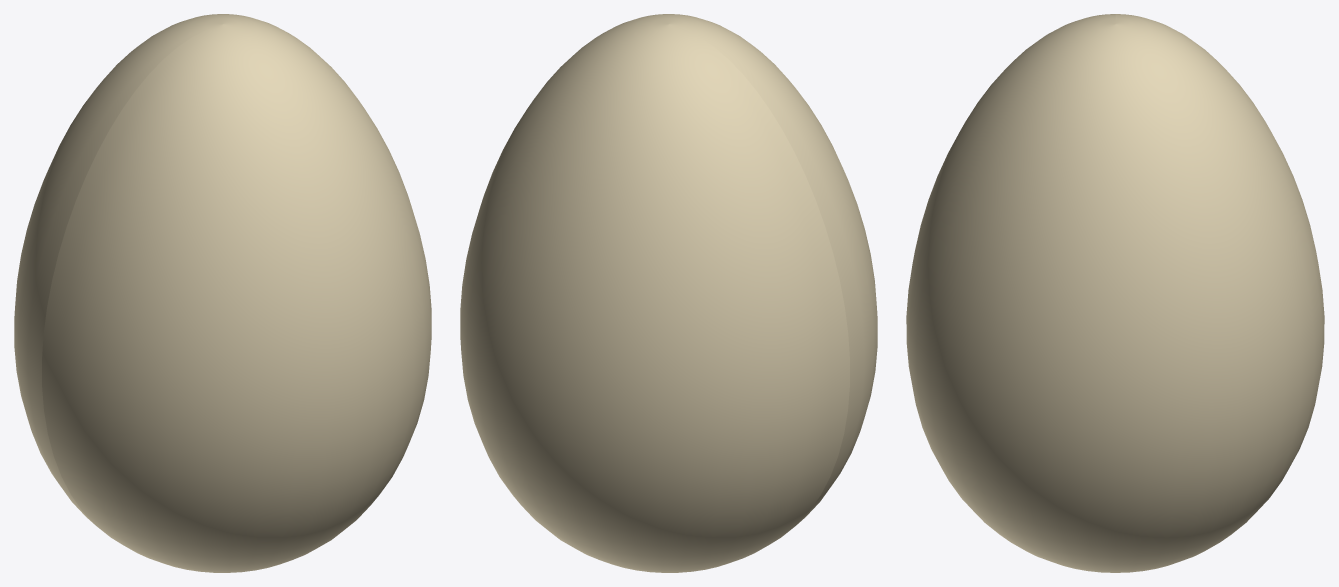
File: egg.glb
The picture shows the model from 3 angles, left to right: view 1: azimuth 30°, elevation 25°; view 2: azimuth 150°, elevation 25°; view 3: azimuth 270°, elevation 25°; orthographic projection.
Visible parts, largest first — view 1: egg; view 2: egg; view 3: egg.
Boxes of the visible parts, x1=… form: egg: x1=14, y1=14, x2=431, y2=572; egg: x1=460, y1=14, x2=877, y2=572; egg: x1=906, y1=14, x2=1324, y2=572.
Size of the model in its own units: 0.414 by 0.58 by 0.414.
